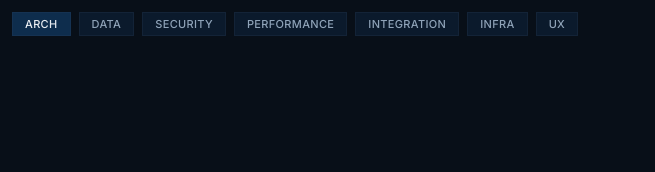
TagFilter › shows clear button when tags are selected
Expected: the text "Clear" is not shown
Click the checkbox labelled "ux" at {"x": 557, "y": 24}, box [536,12,578,36]
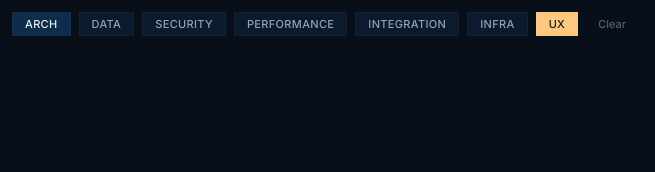
Now the button "Clear" is shown, box [586,13,638,35]
